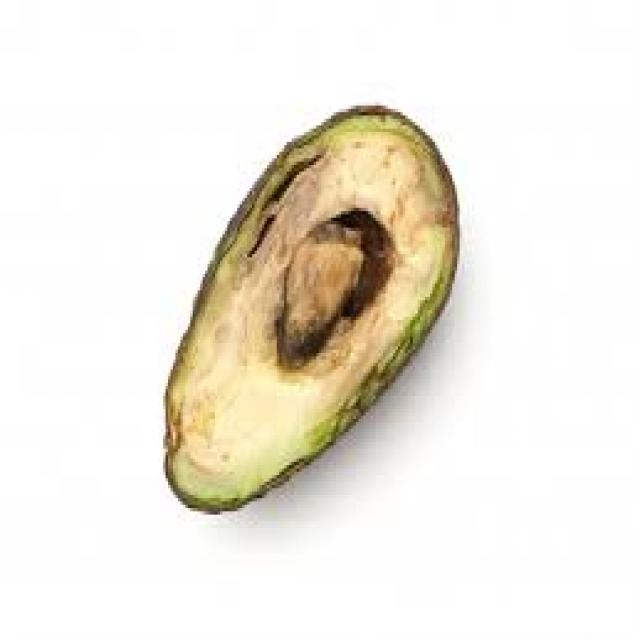organic waste: (161, 99, 457, 511), (277, 205, 395, 356)
